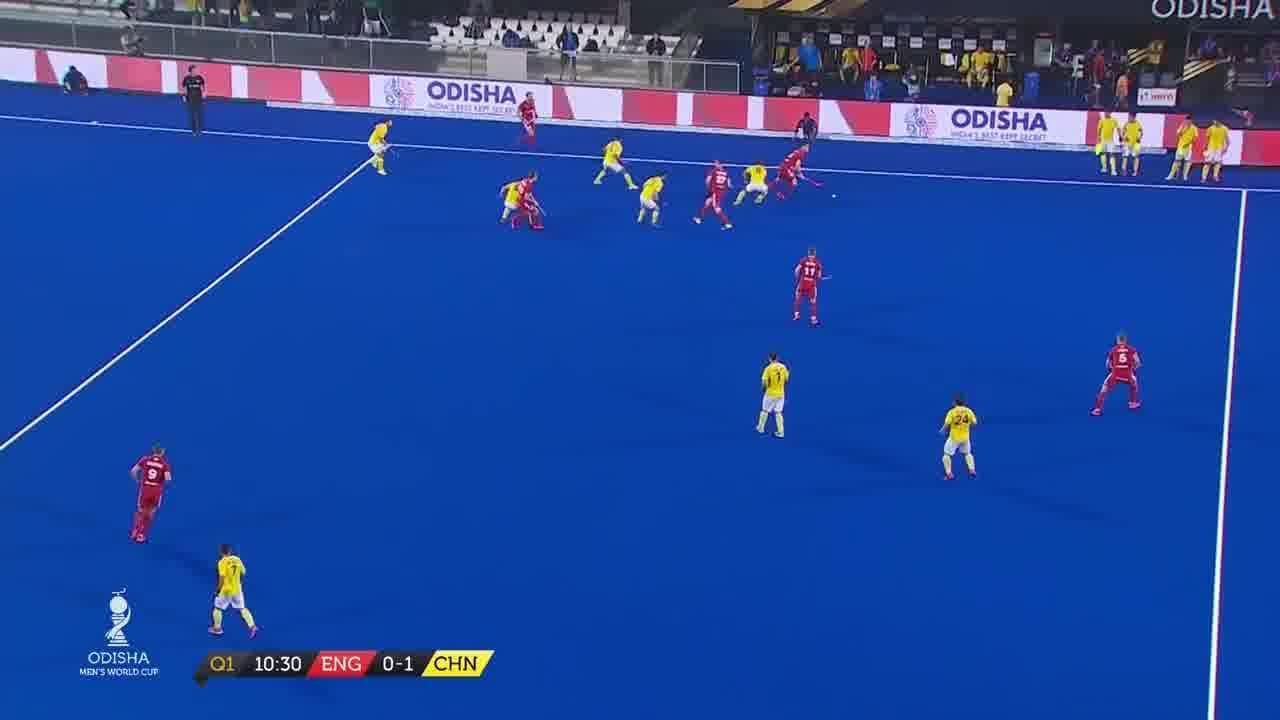ball: (830, 192, 839, 198)
